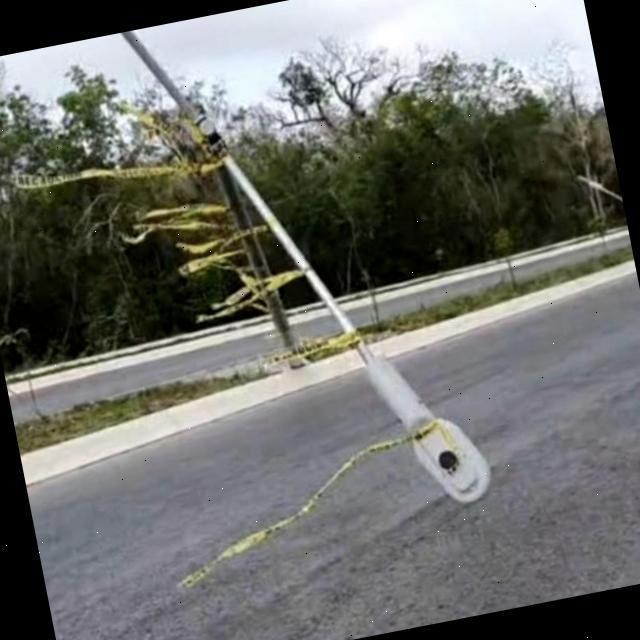Broken Pole: (187, 102, 509, 521)
